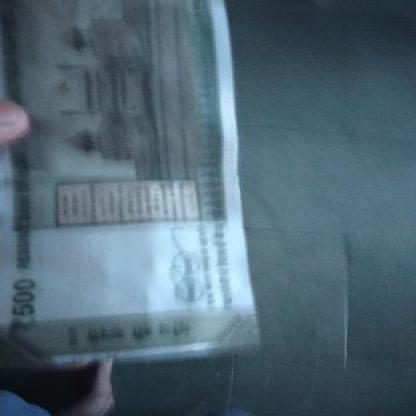New500Back: (0, 0, 263, 353)
